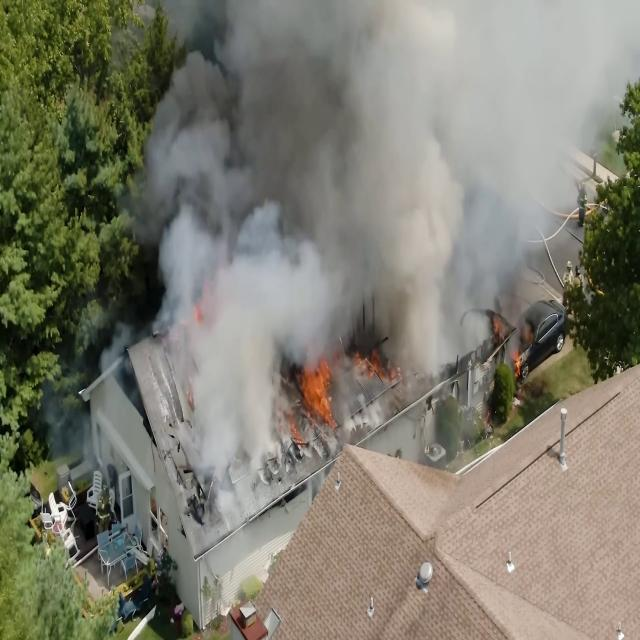Fire: (294, 351, 341, 426)
Smoke: (160, 7, 609, 199), (264, 55, 462, 341), (194, 252, 277, 460)
